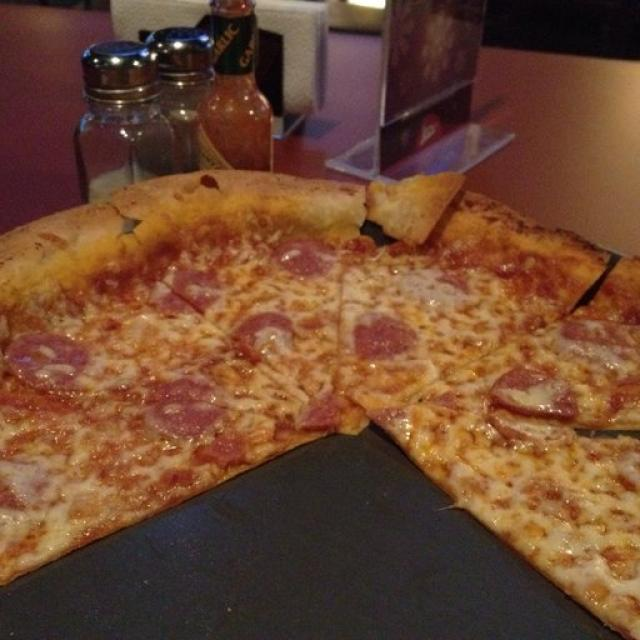Pepperoni: (147, 378, 226, 436), (499, 364, 577, 421), (11, 330, 84, 390), (234, 311, 297, 364), (356, 317, 414, 359), (170, 266, 221, 313), (276, 232, 334, 271)
Pizza: (0, 171, 640, 640)
